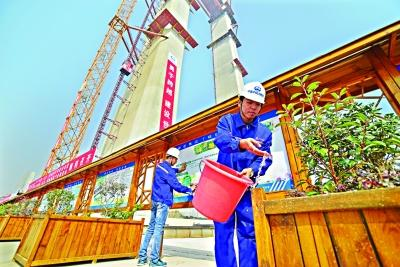helmet: (240, 84, 268, 104), (167, 149, 181, 159)
